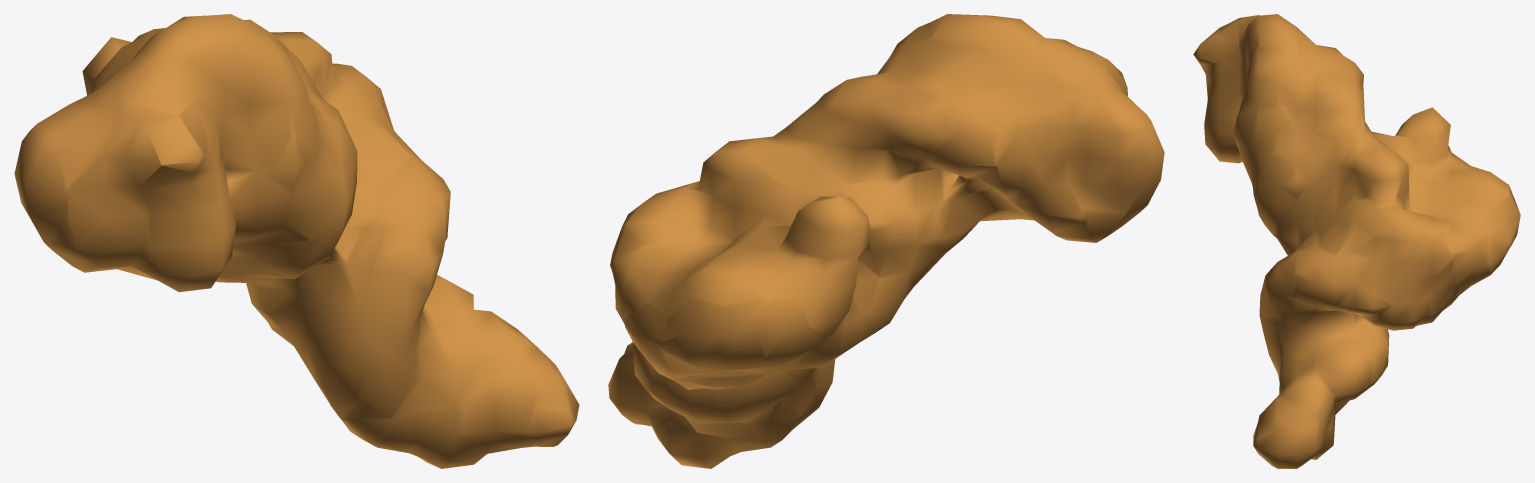
The model's file is onemer1GAX_rna.fbx.
3 views of the same model, side by side, from view 1: azimuth 30°, elevation 25°; view 2: azimuth 150°, elevation 25°; view 3: azimuth 270°, elevation 25° (orthographic). The views are drawn at different scales.
Parts seen in each view (by area): view 1: CoarseMS_1gaxBioSimp_Selection2; view 2: CoarseMS_1gaxBioSimp_Selection2; view 3: CoarseMS_1gaxBioSimp_Selection2.
Part boxes in pixels (x1,y1,x2,y2): CoarseMS_1gaxBioSimp_Selection2: [14, 14, 579, 468]; CoarseMS_1gaxBioSimp_Selection2: [608, 14, 1164, 468]; CoarseMS_1gaxBioSimp_Selection2: [1193, 14, 1520, 468].
Bounding box in the file's own units: 75.32 × 67.31 × 57.67.
